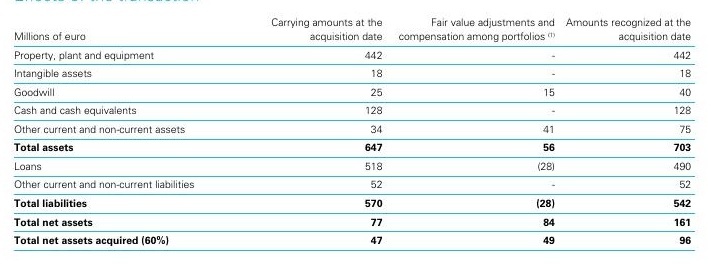table: (0, 0, 711, 264)
